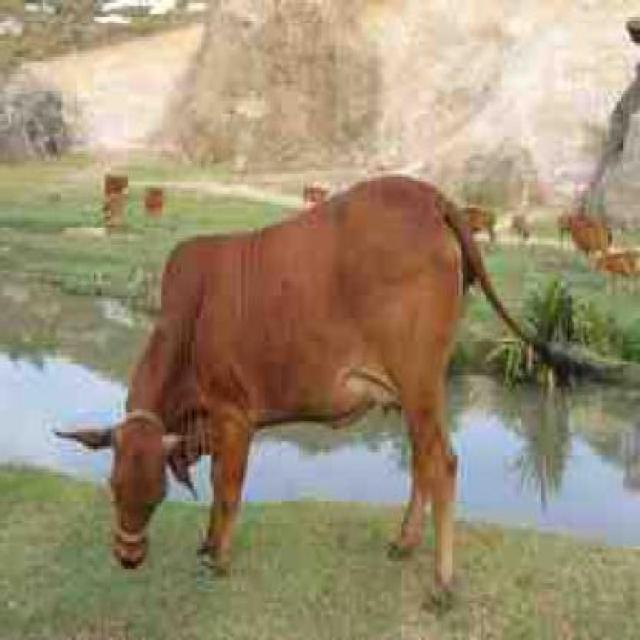Cow: (49, 171, 608, 611)
